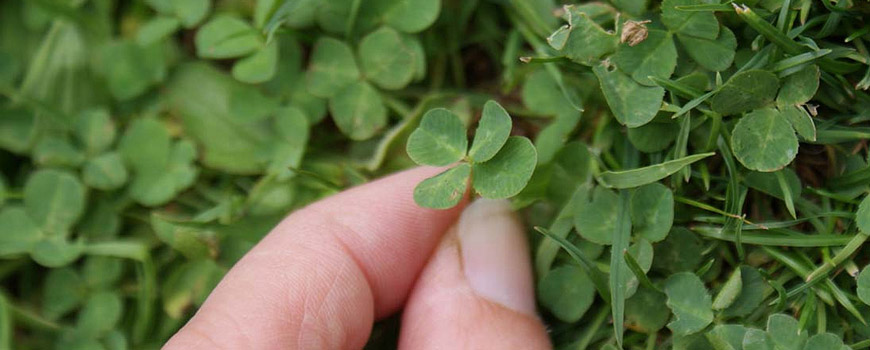clover: (405, 102, 540, 223), (708, 52, 833, 177)
